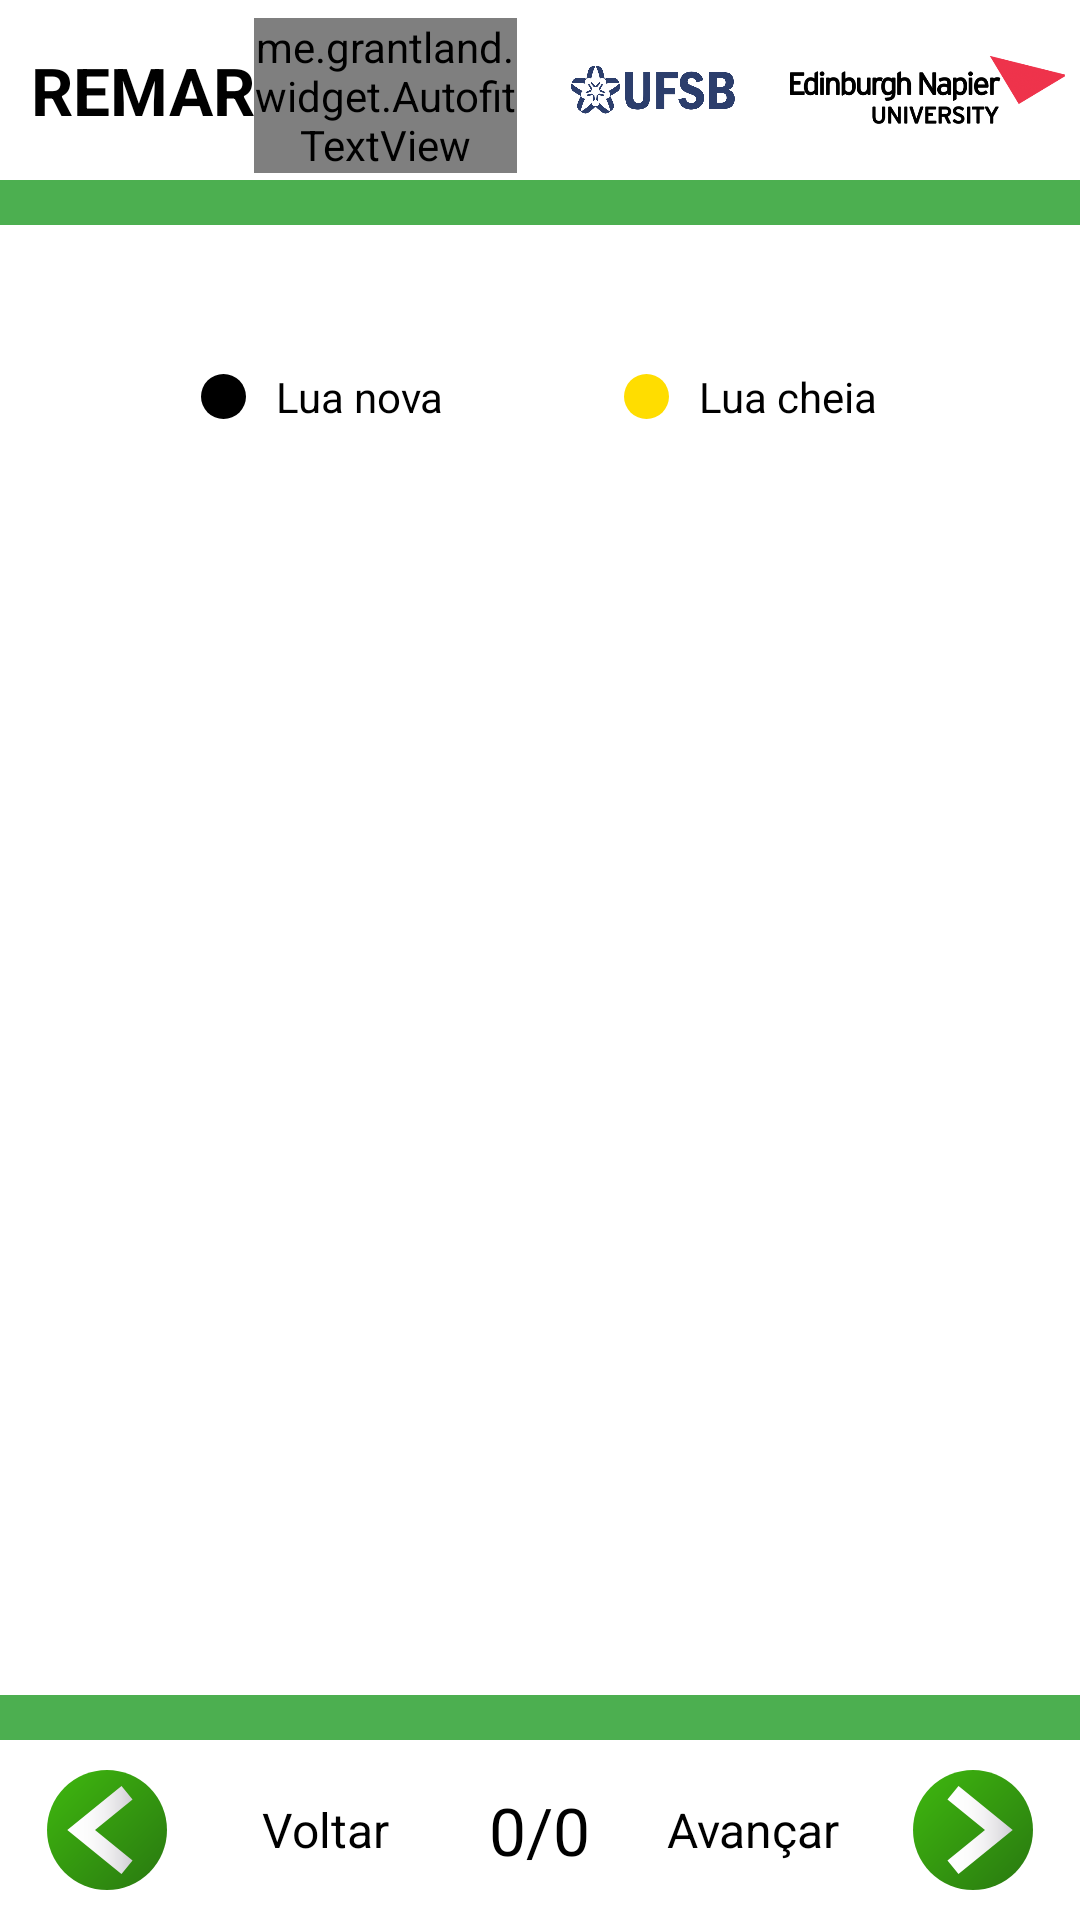

Locate icon controls on the screen. Image size 1080px×1920px, boxes as (x1, y1, x2, y2).
back state: (47, 1770, 167, 1890)
next state: (913, 1770, 1033, 1890)
